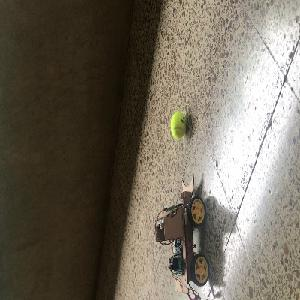Ball: (170, 111, 186, 140)
Robot: (155, 174, 210, 294)
